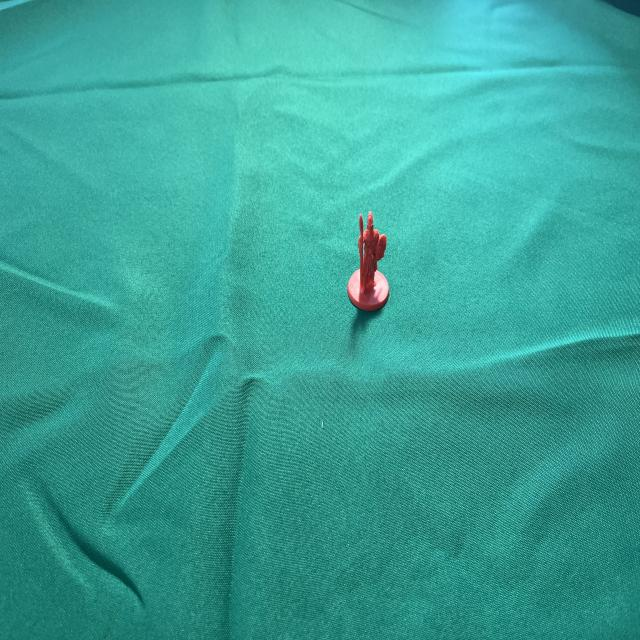amon_follower: (348, 212, 389, 312)
